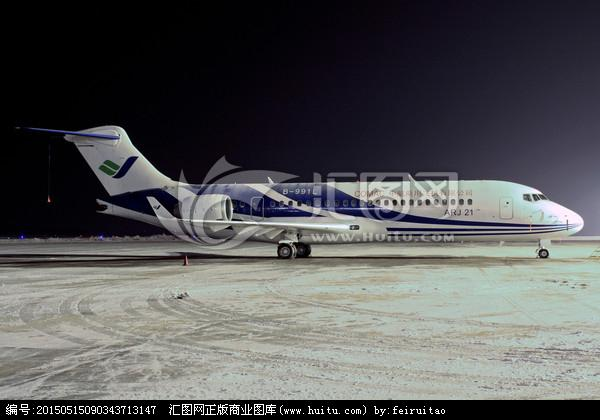airplane: (15, 120, 585, 263)
